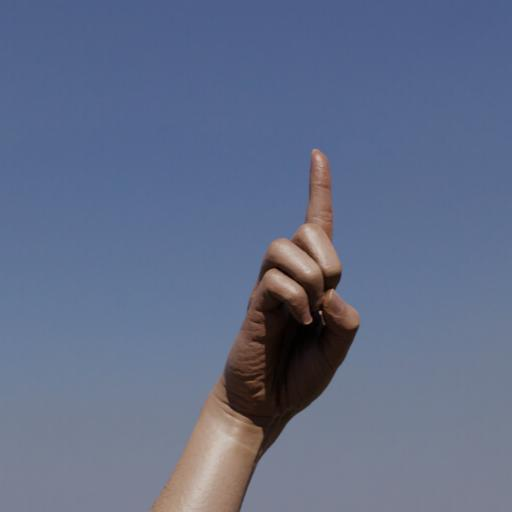D: (206, 136, 381, 512)
